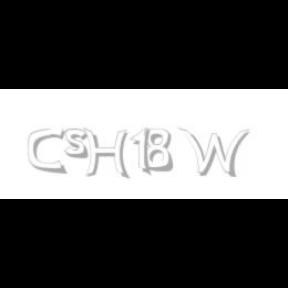1: (130, 128, 152, 176)
8: (144, 128, 172, 172)
C: (29, 128, 66, 174)
H: (83, 128, 129, 180)
W: (178, 128, 250, 178)
s: (65, 128, 93, 160)
